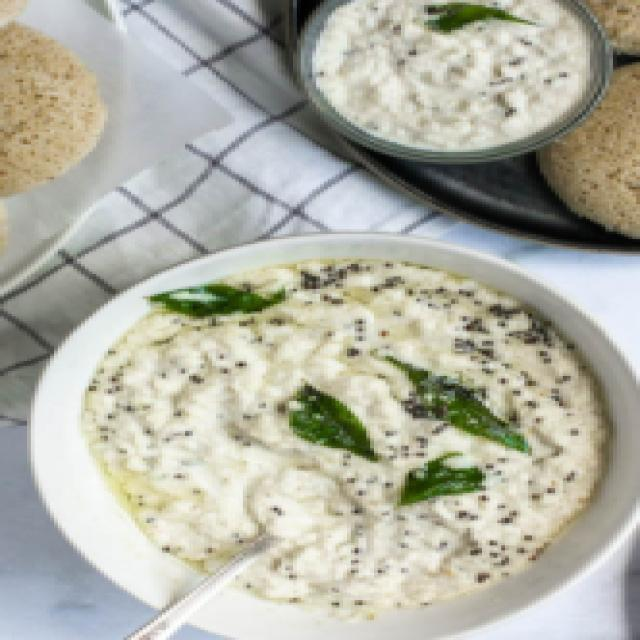coconut chutney: (104, 257, 564, 589)
